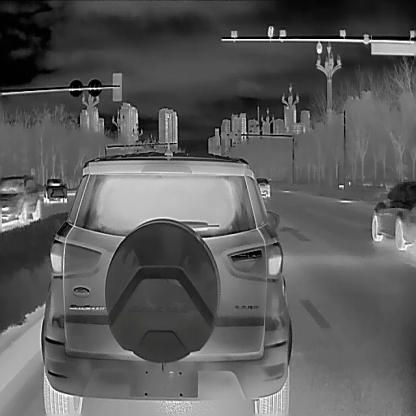car: (41, 151, 292, 416), (370, 179, 415, 250), (0, 174, 39, 227), (42, 175, 68, 204), (254, 176, 270, 198)
